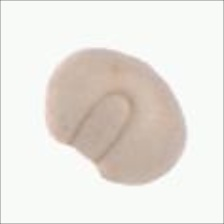L5: (67, 88, 138, 166), (123, 52, 174, 93)
L6: (41, 45, 190, 188)
